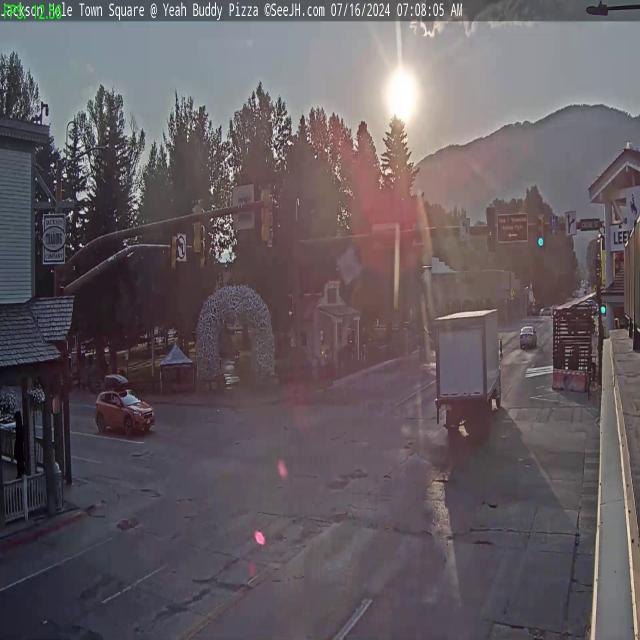sedan: (520, 323, 537, 348)
suv: (94, 388, 154, 438)
traffic light: (260, 184, 274, 245), (190, 200, 204, 257), (486, 208, 496, 252), (536, 215, 546, 248), (172, 228, 176, 267)
truck: (430, 300, 505, 460)
